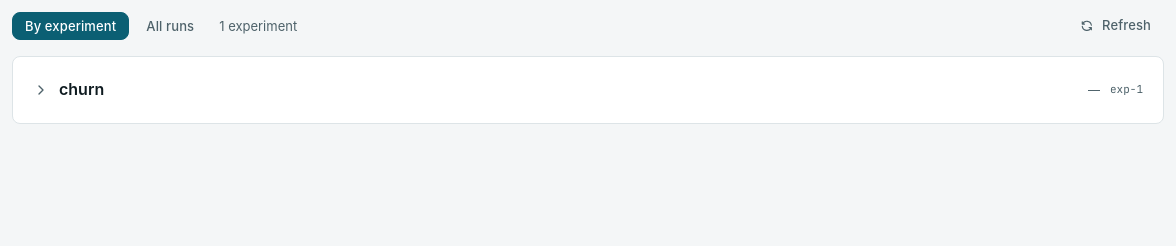
Scenario: Experiments › All runs › orders by a metric when its header is clicked
Click the button "All runs" at coordinates (170, 26), box [133,12,207,40]
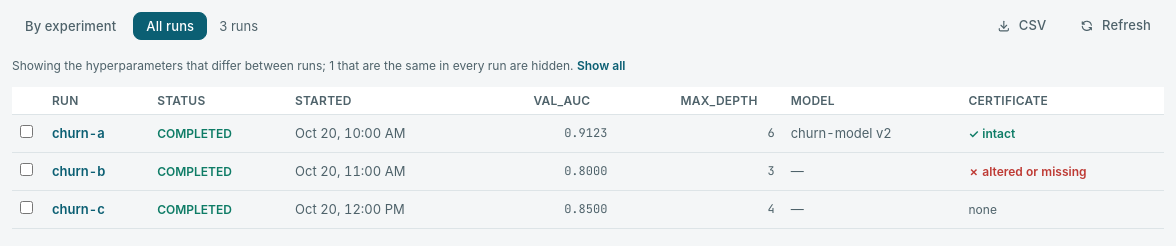
Click the button "val_auc" at coordinates (570, 101), box [534,91,607,110]
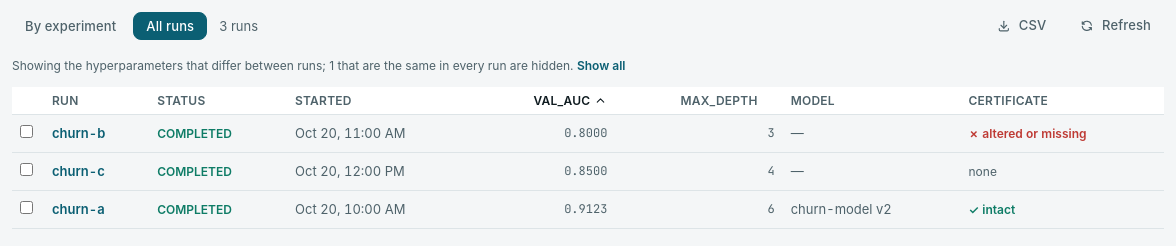
Click the button "val_auc" at coordinates (570, 101), box [534,91,607,110]
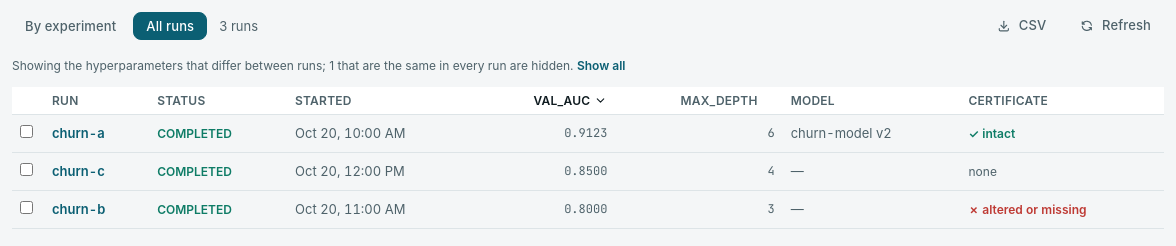
Expected: the elements titled "Open run details" read "churn-a", "churn-c", "churn-b", in this order, [52,123,105,144]; [52,161,105,182]; [52,199,105,220]
